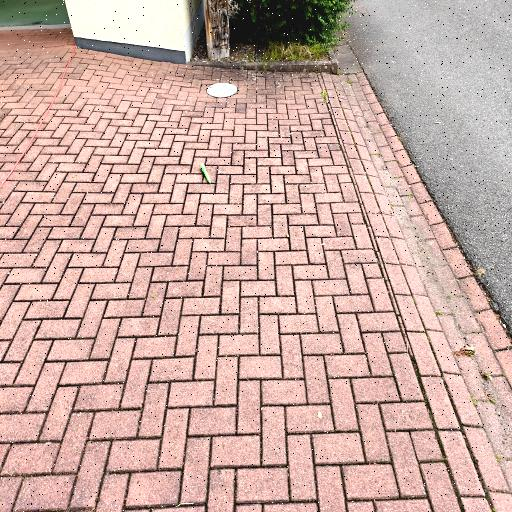Probe-Detection: (200, 164, 211, 183)
